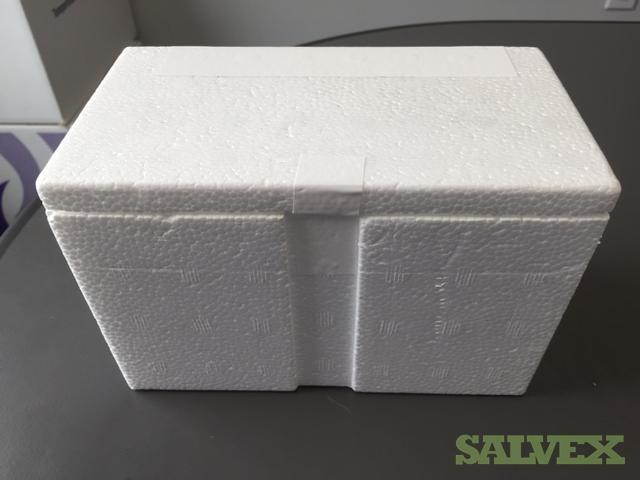泡沫箱: (37, 49, 620, 394)
